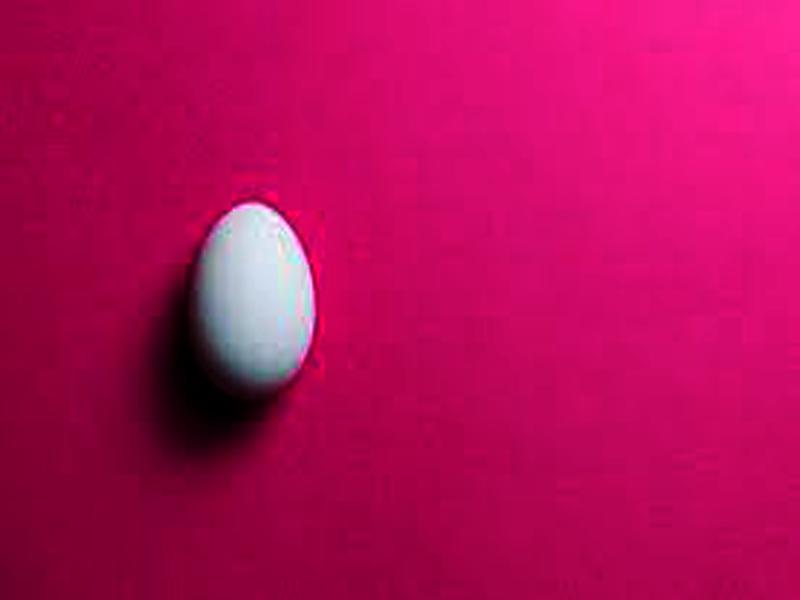Eggs: (188, 201, 316, 399)
